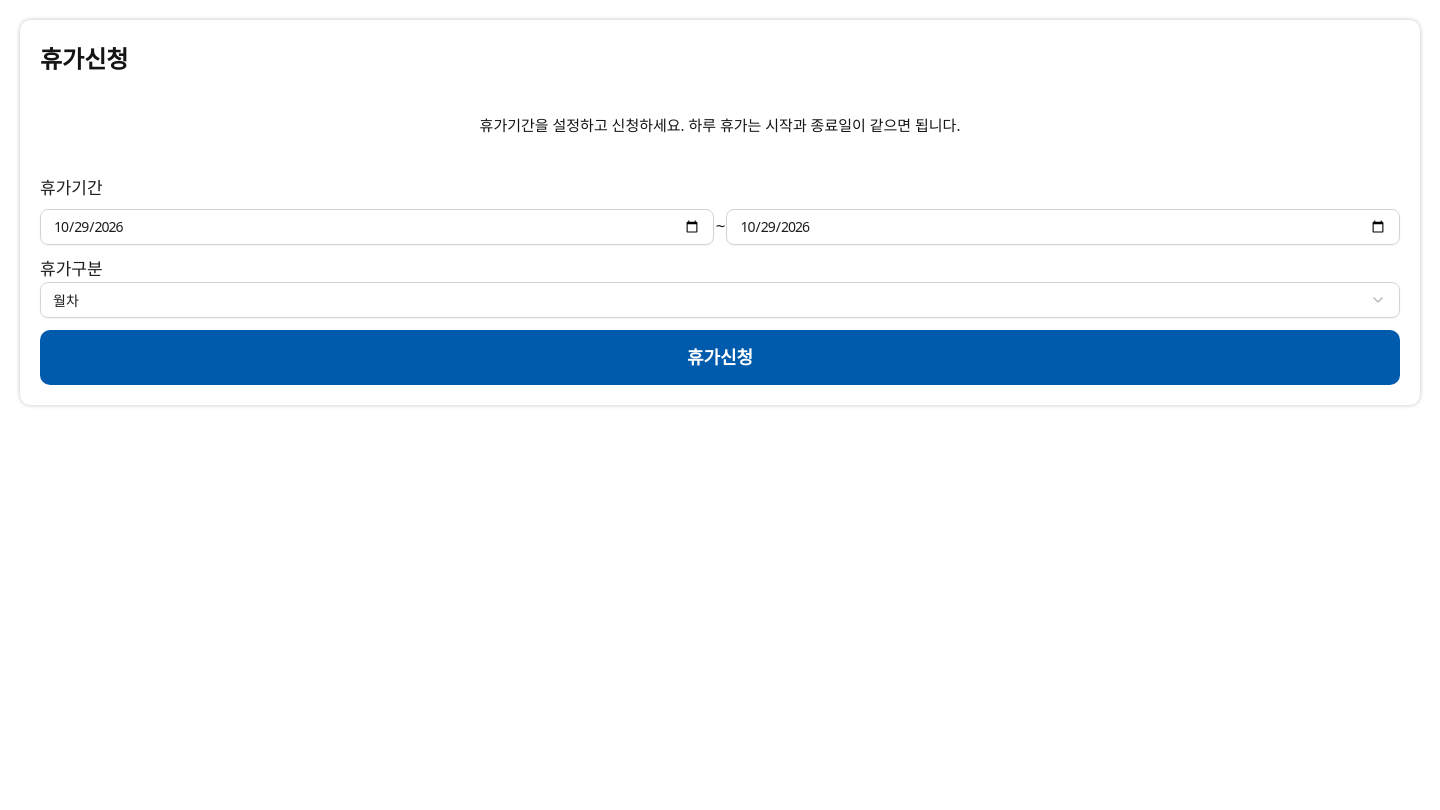
Test: guard leave application › cancels without saving and rejects a reversed period
This screenshot has width=1440, height=810.
Expected: the date field named "시작일" is shown, [40, 209, 714, 245]
Click the button "휴가신청" at [720, 358], box [40, 330, 1400, 385]
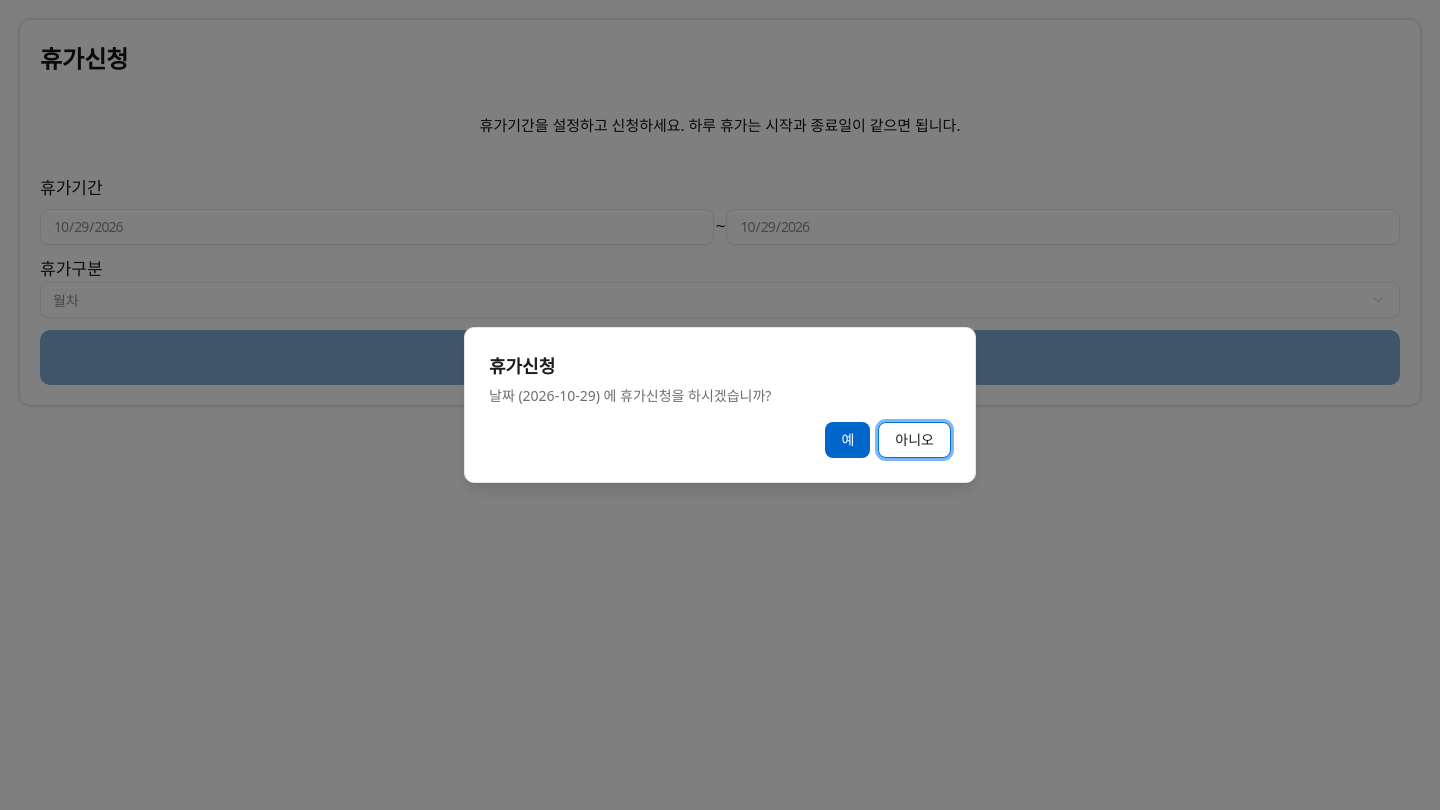
Click the button "아니오" at [915, 440], box [878, 422, 951, 458]
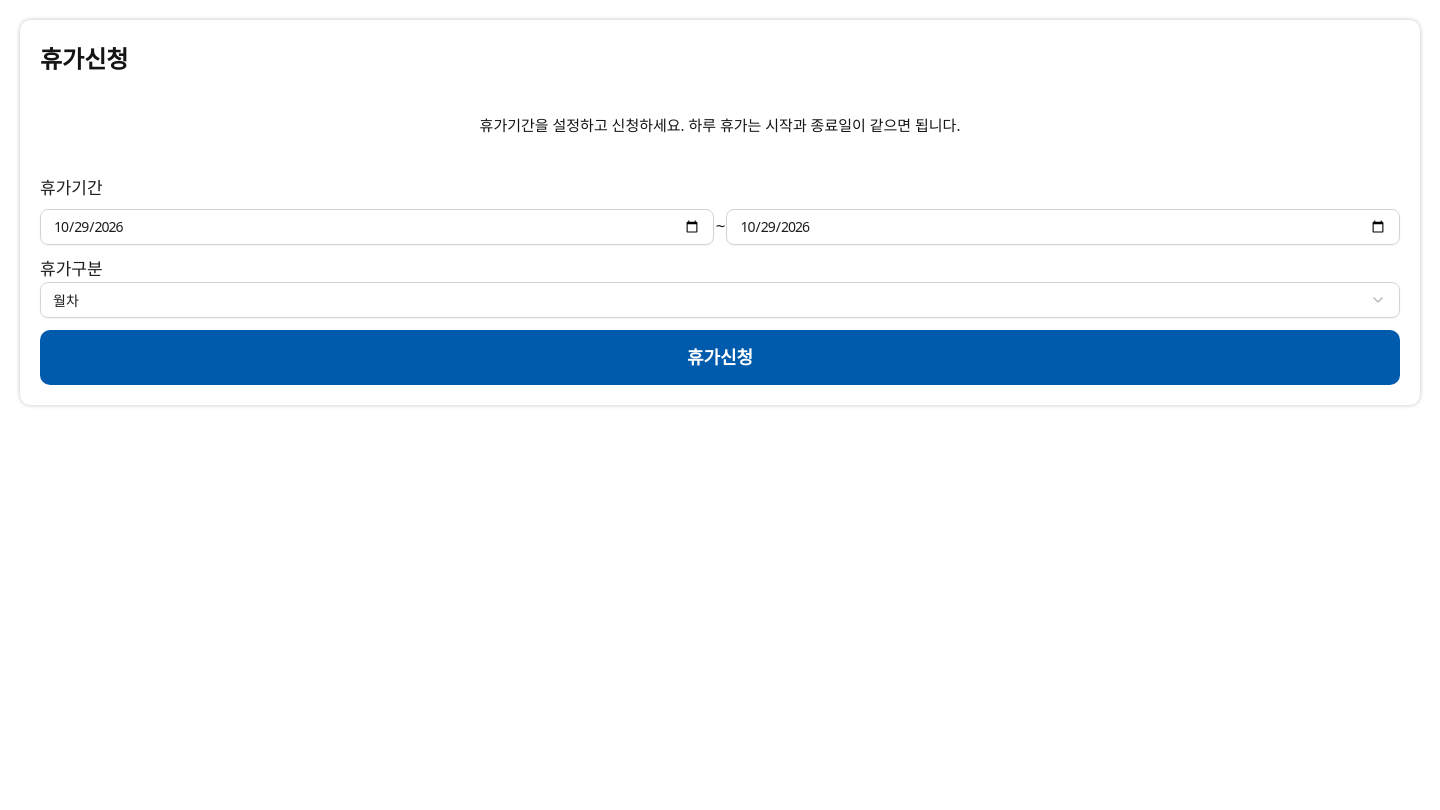
Type "2026-10-03" into the date field named "시작일" at [377, 227], box [40, 209, 714, 245]
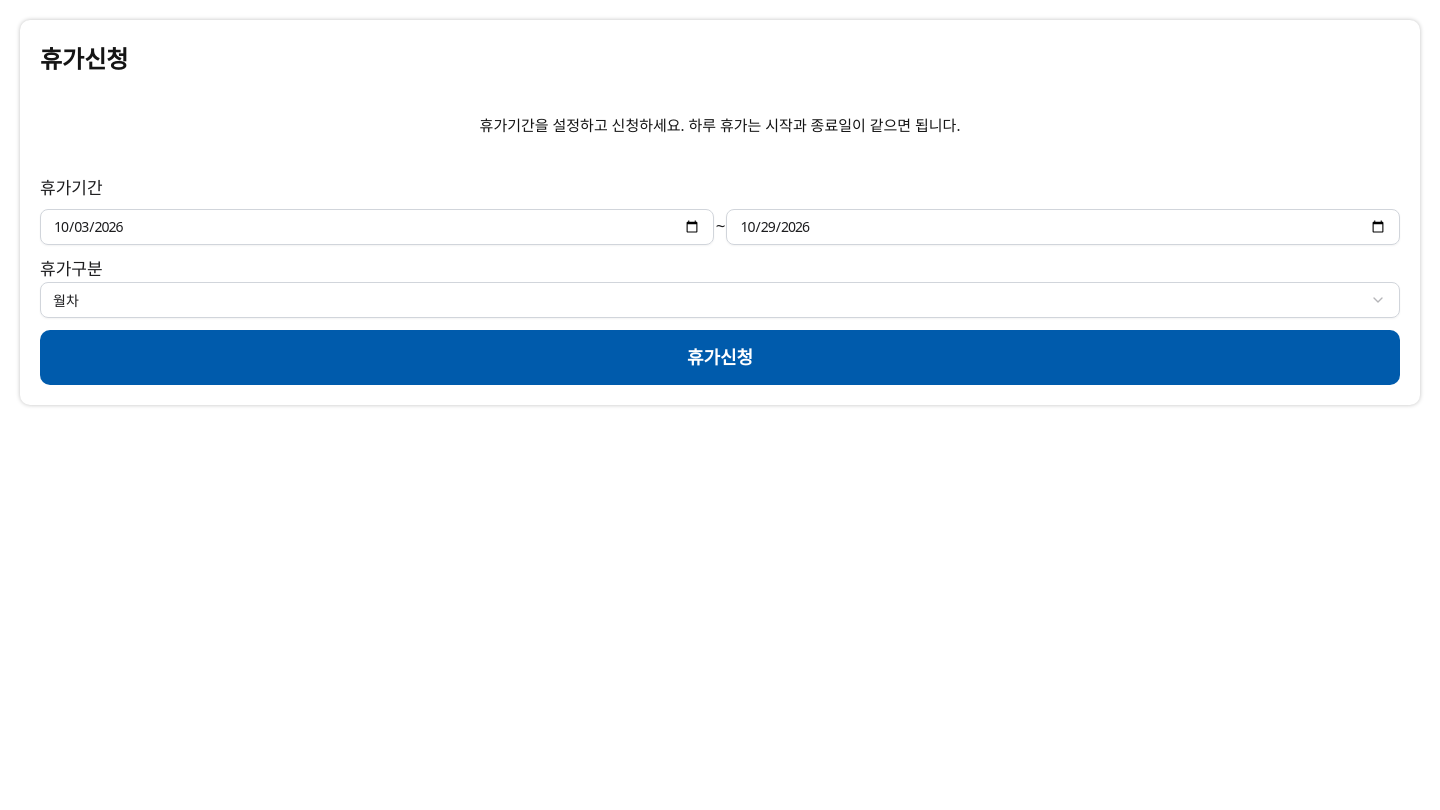
Type "2026-10-01" into the date field named "종료일" at [1063, 227], box [726, 209, 1400, 245]
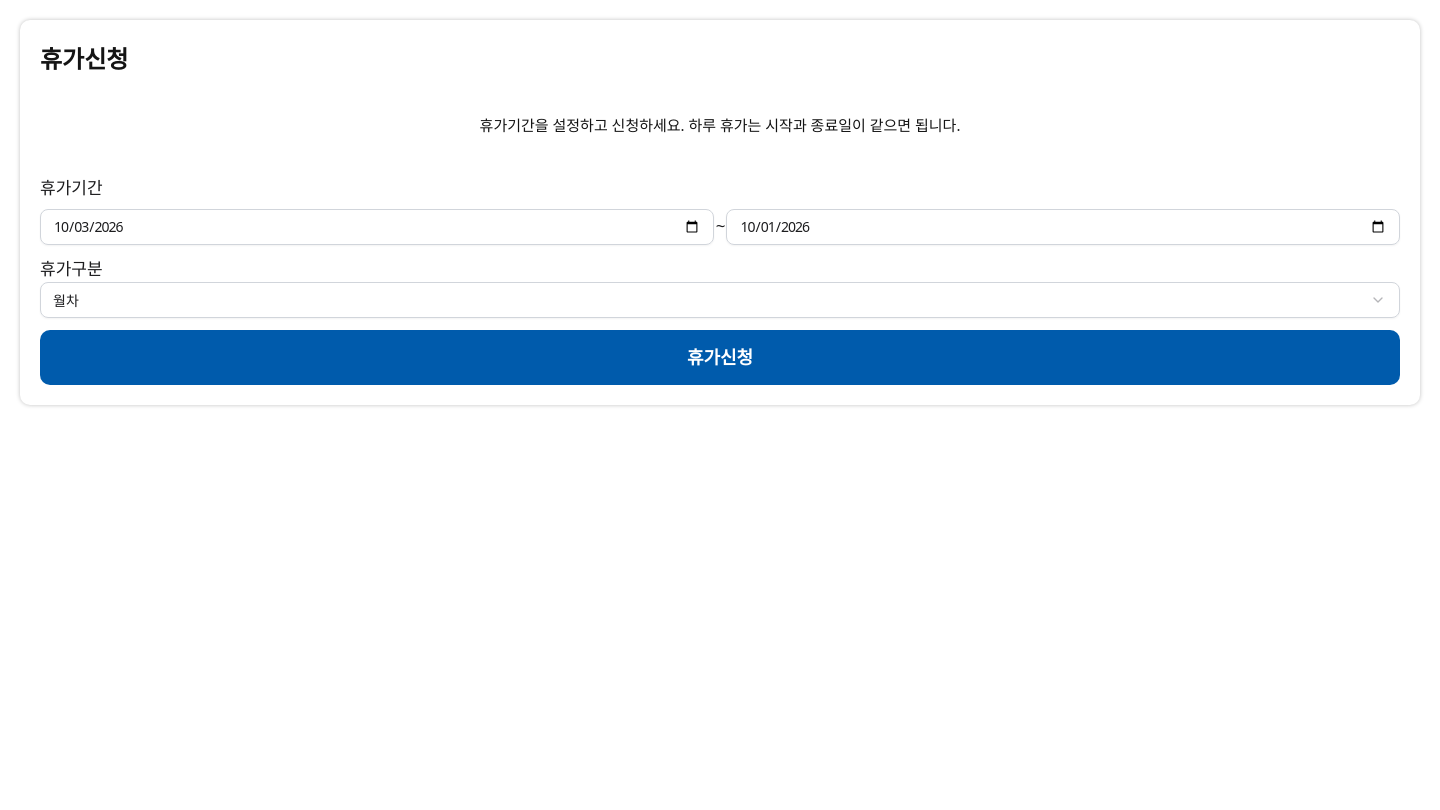
Click the button "휴가신청" at [720, 358], box [40, 330, 1400, 385]
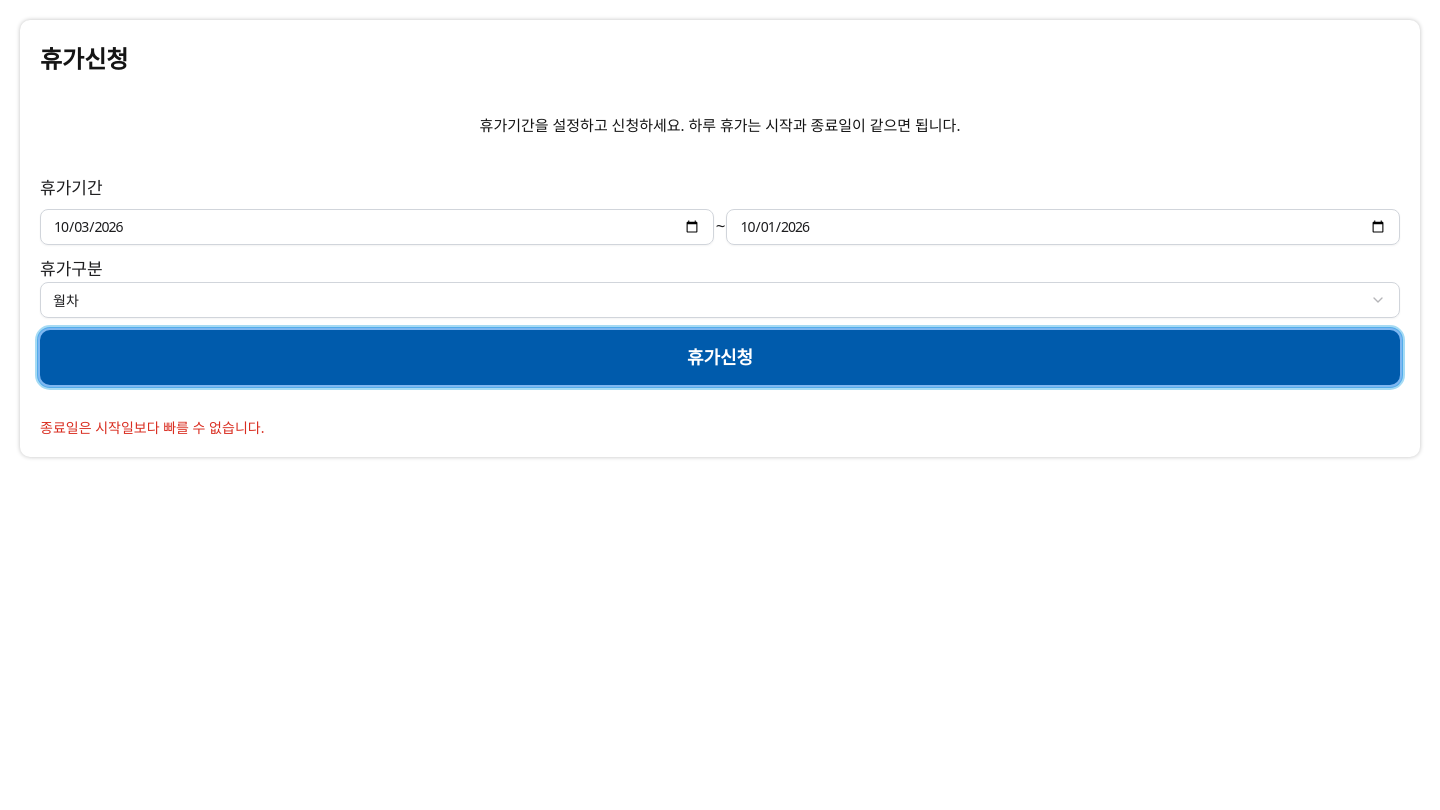
Now the message reads "종료일은 시작일보다 빠를 수 없습니다.", box [40, 418, 264, 437]
